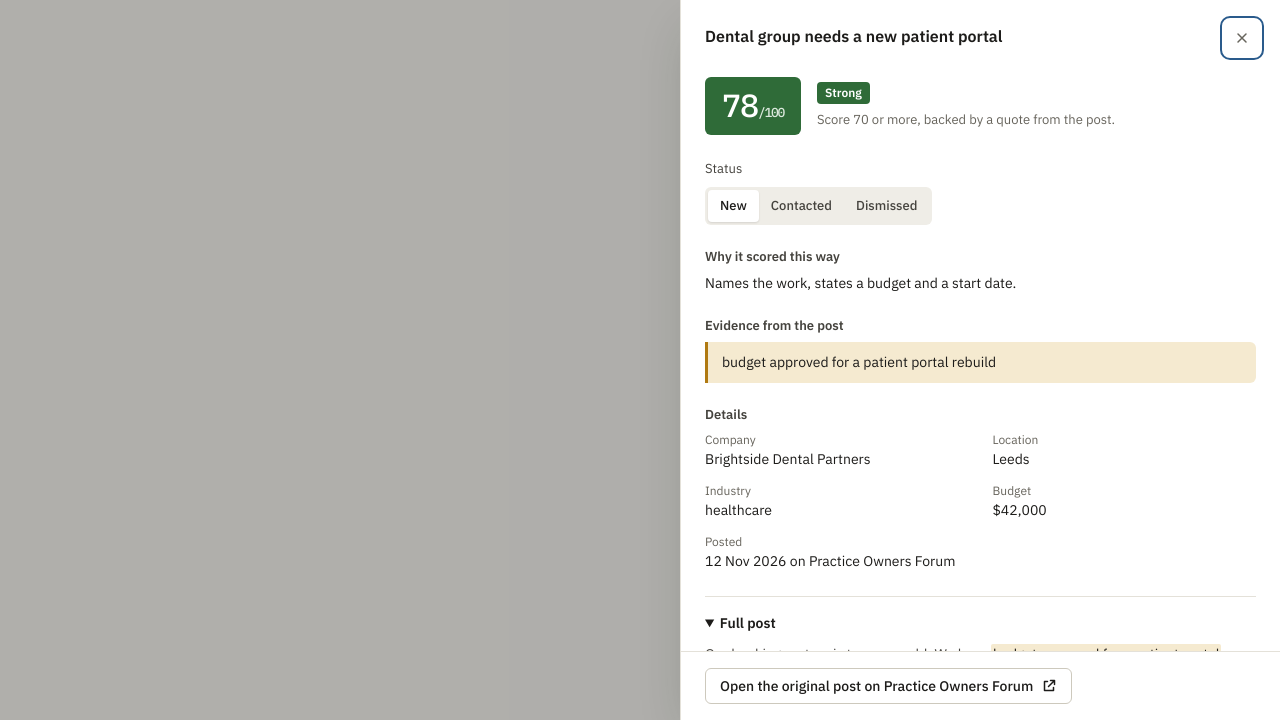
LeadDetail › rolls the status back and explains why when saving fails
Click the radio button labelled "Dismissed": [887, 205] box [856,197,917,214]
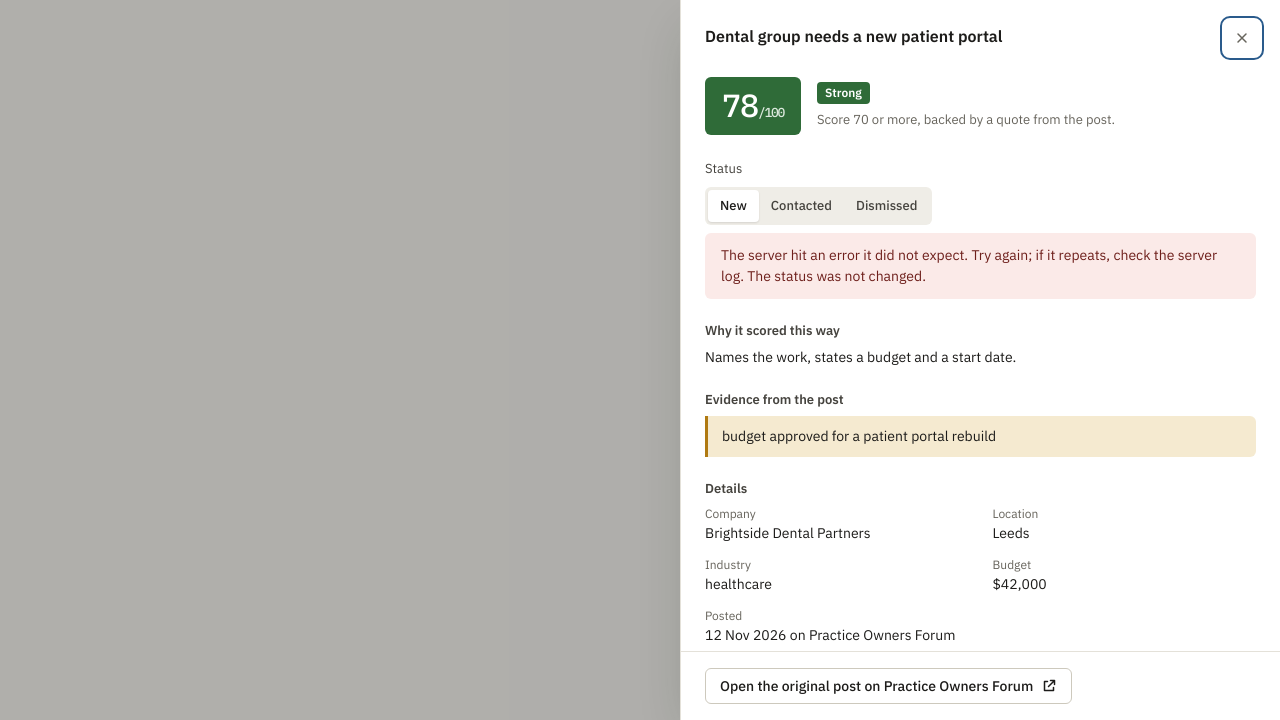
Expected: the message shows "The status was not changed.", [721,246,1217,284]
